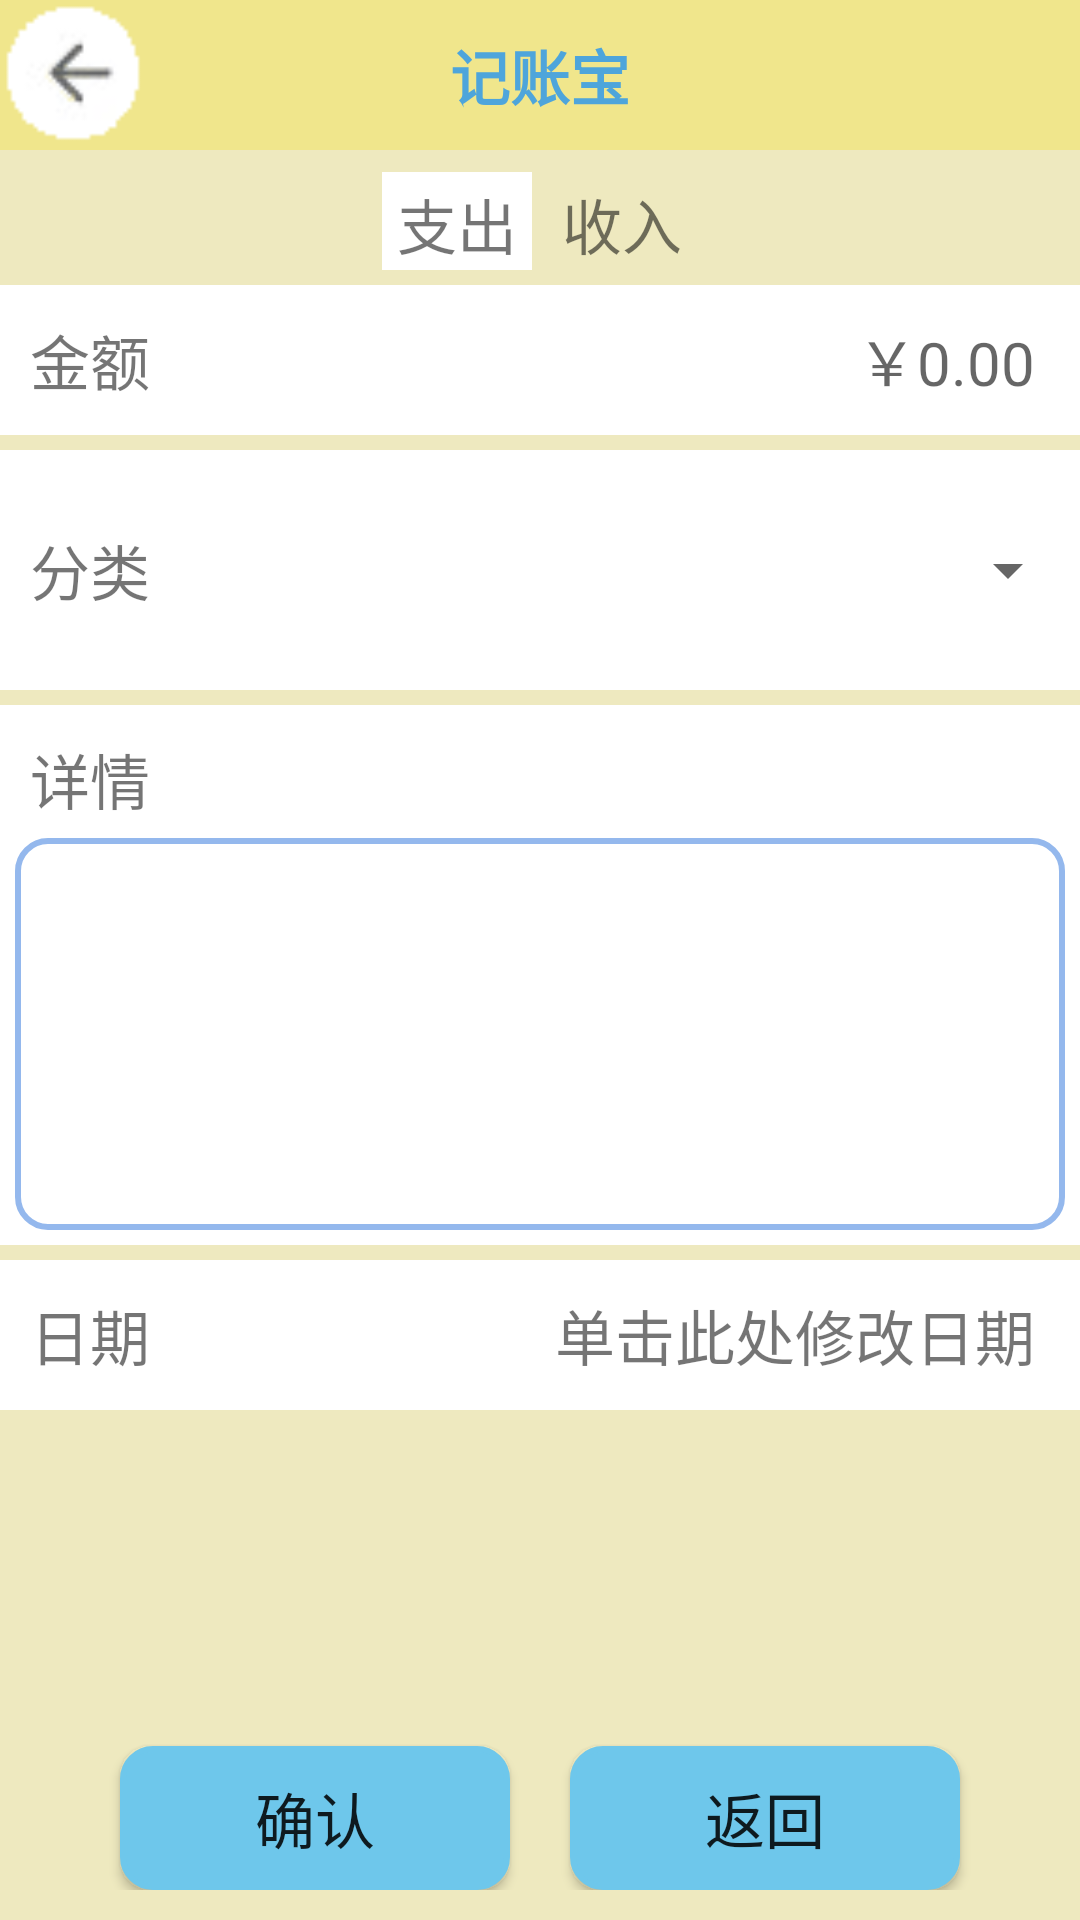

Point at icon controls on the screen. Image size 1080×1920, points as (x,y).
left rb: (73,73)
